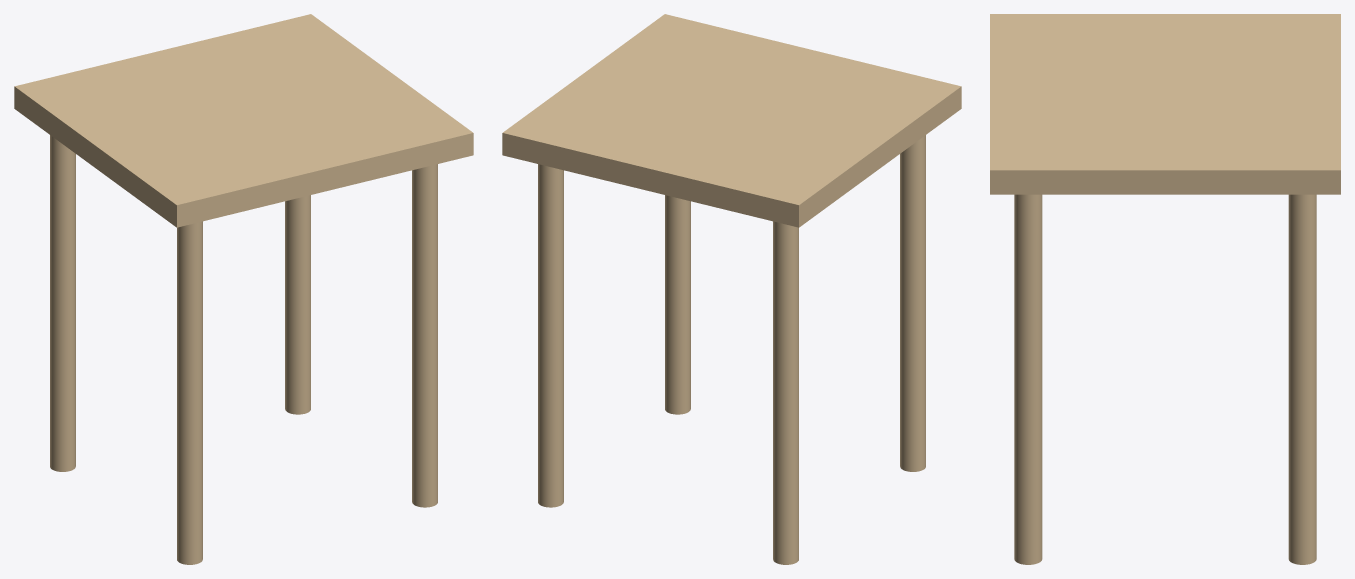
File: ikea-mittback-80464202-g2-proxy.glb
3 views of the same model, side by side, from view 1: azimuth 30°, elevation 25°; view 2: azimuth 150°, elevation 25°; view 3: azimuth 270°, elevation 25° (orthographic). The views are drawn at different scales.
Visible parts, largest first — view 1: proxy_body, leg (×4); view 2: proxy_body, leg (×4); view 3: proxy_body, leg (×2).
Boxes of the visible parts, box(x1,y1,x2,y2) form: proxy_body: box(14, 14, 473, 227); leg (×4): box(50, 135, 437, 564); proxy_body: box(502, 14, 961, 227); leg (×4): box(538, 135, 925, 564); proxy_body: box(990, 14, 1340, 194); leg (×2): box(1014, 194, 1316, 564).
Size of the model in its own units: 0.58 by 0.7 by 0.55.
